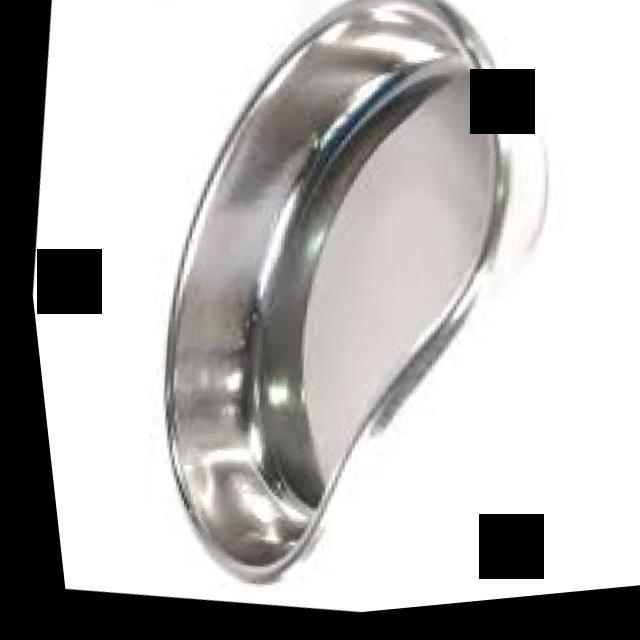Kidney Tray: (78, 0, 606, 634)
